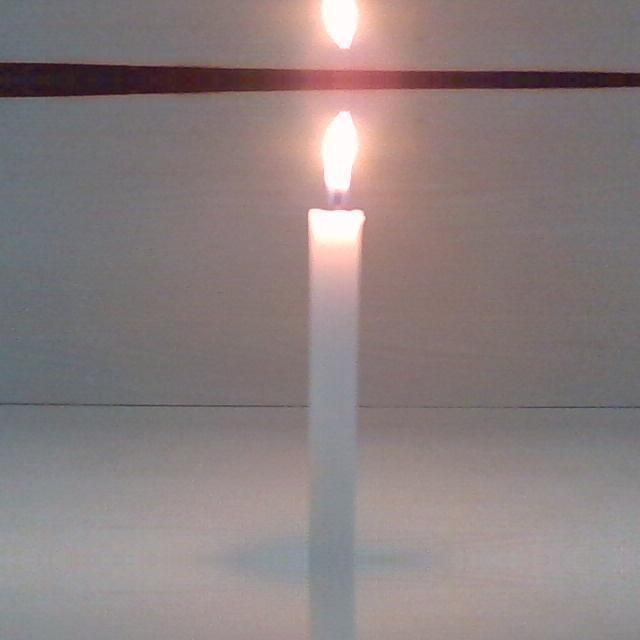smoke: (316, 108, 359, 205), (316, 0, 359, 51)
